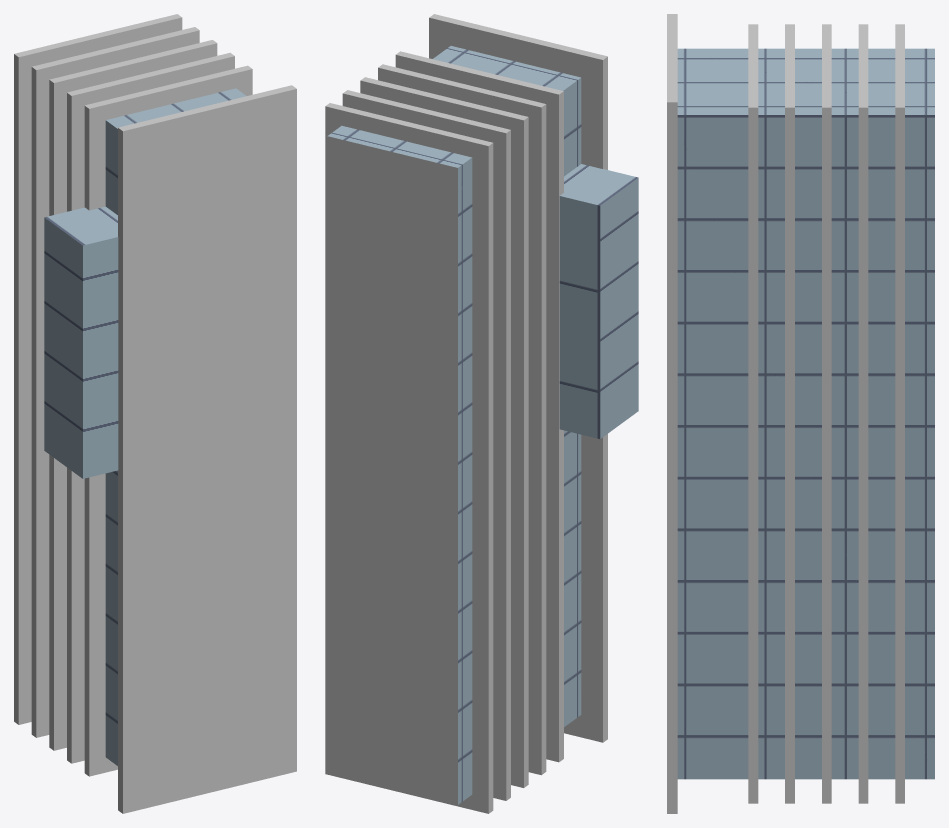
The model's file is sggf02.gltf.
The picture shows the model from 3 angles, left to right: view 1: azimuth 30°, elevation 25°; view 2: azimuth 150°, elevation 25°; view 3: azimuth 270°, elevation 25°; orthographic projection. The views are drawn at different scales.
Parts seen in each view (by area): view 1: Box033; view 2: Box033; view 3: Box033.
Boxes of the visible parts, box(x1,y1,x2,y2) form: Box033: box(14, 14, 296, 813); Box033: box(325, 14, 638, 813); Box033: box(667, 14, 934, 813).
Size of the model in its own units: 24.07 by 75 by 25.6.
2 materials, 2 textured.
